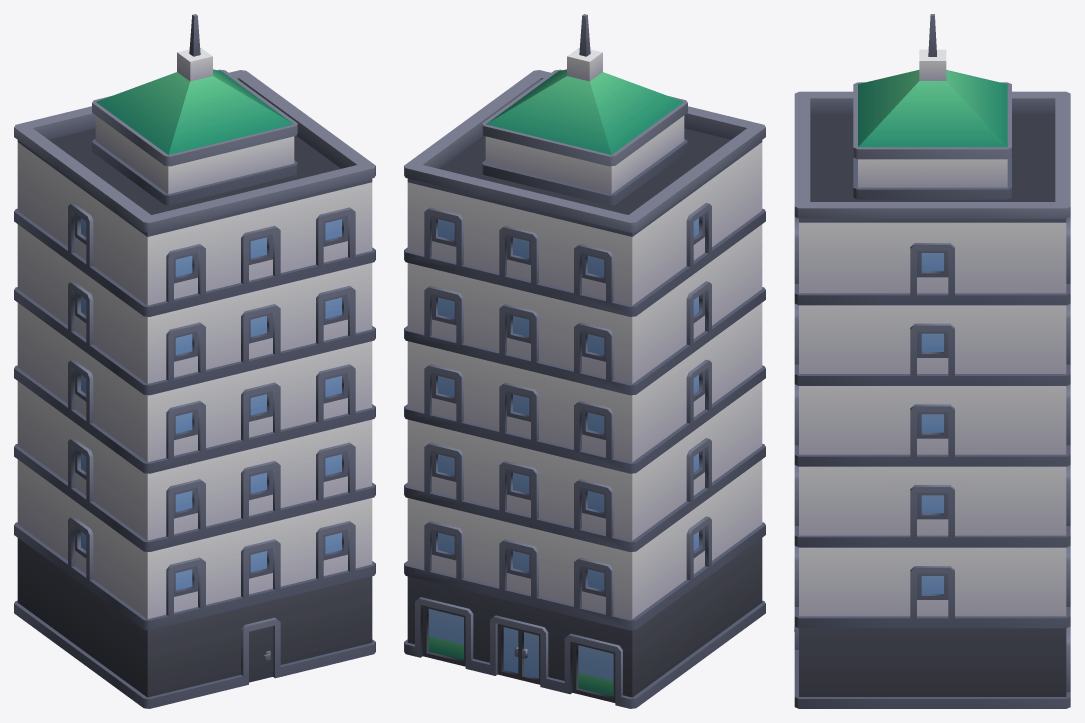
The model's file is building-m.glb.
3 renders of one model, left to right at view 1: azimuth 30°, elevation 25°; view 2: azimuth 150°, elevation 25°; view 3: azimuth 270°, elevation 25°, orthographic. The views are drawn at different scales.
Visible parts, largest first — view 1: building-m; view 2: building-m; view 3: building-m.
Boxes of the visible parts, bbox=[...] form: building-m: bbox=[14, 14, 375, 708]; building-m: bbox=[404, 14, 765, 708]; building-m: bbox=[794, 14, 1070, 708].
Bounding box in the file's own units: 1.24 × 3.15 × 1.24.
Materials: 1 (1 with a texture image).
